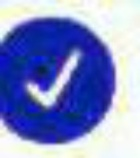CheckBox: (1, 1, 139, 157)
